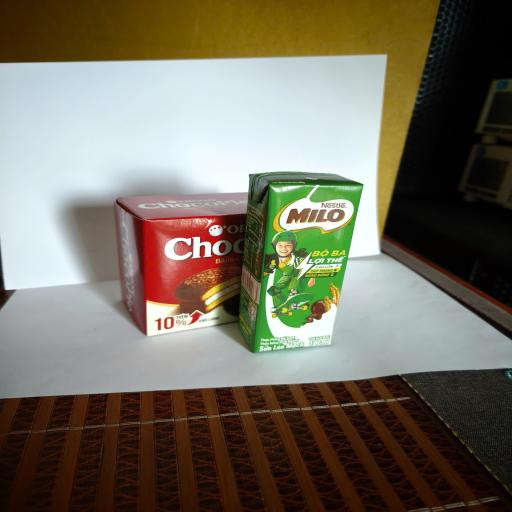chocopie: (114, 192, 249, 337)
milo: (238, 172, 364, 354)
